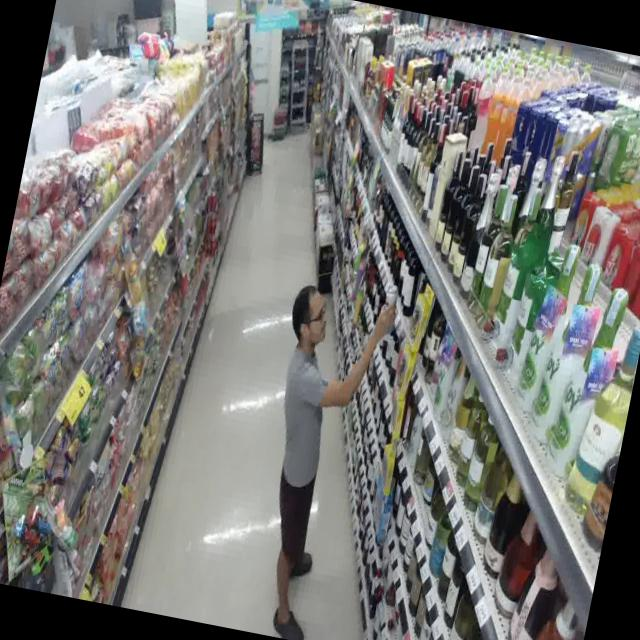pickup: (216, 249, 414, 640)
